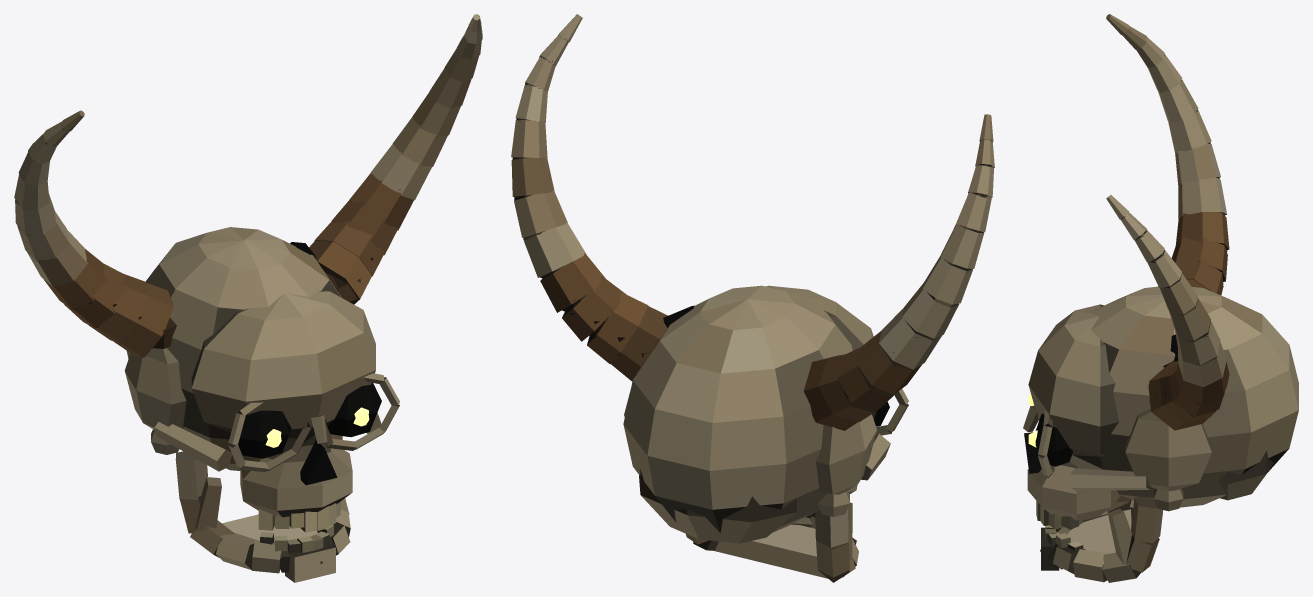
The model's file is skull_horned.glb.
3 views of the same model, side by side, from view 1: azimuth 30°, elevation 25°; view 2: azimuth 150°, elevation 25°; view 3: azimuth 270°, elevation 25° (orthographic). The views are drawn at different scales.
Visible parts, largest first — view 1: skull_horned; view 2: skull_horned; view 3: skull_horned.
Boxes of the visible parts, x1,y1,x2,y2 form: skull_horned: [14, 14, 482, 582]; skull_horned: [511, 14, 994, 582]; skull_horned: [1023, 14, 1298, 582].
Size of the model in its own units: 1.55 by 1.61 by 0.8813.
